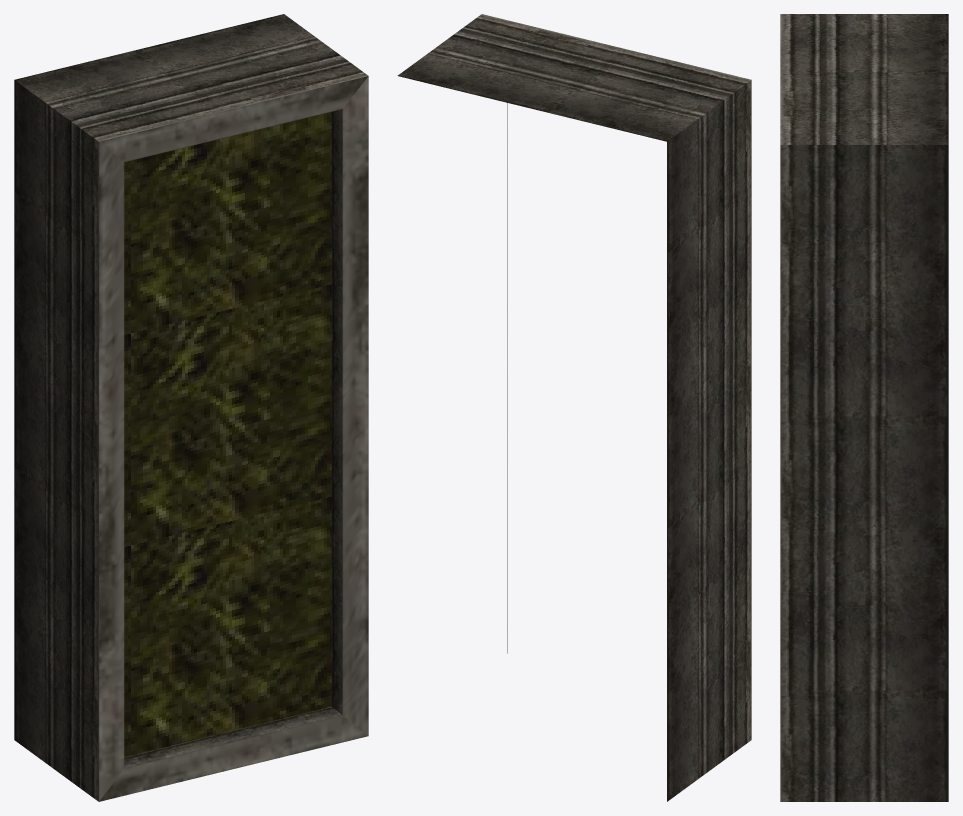
3 renders of one model, left to right at view 1: azimuth 30°, elevation 25°; view 2: azimuth 150°, elevation 25°; view 3: azimuth 270°, elevation 25°, orthographic.
Parts seen in each view (by area): view 1: model_Object45; view 2: model_Object45; view 3: model_Object45.
Boxes of the visible parts, bbox=[...] form: model_Object45: bbox=[14, 14, 368, 801]; model_Object45: bbox=[397, 14, 751, 801]; model_Object45: bbox=[780, 14, 948, 801].
Bounding box in the file's own units: 1.48 × 3.46 × 0.8032.
2 materials, 2 textured.
